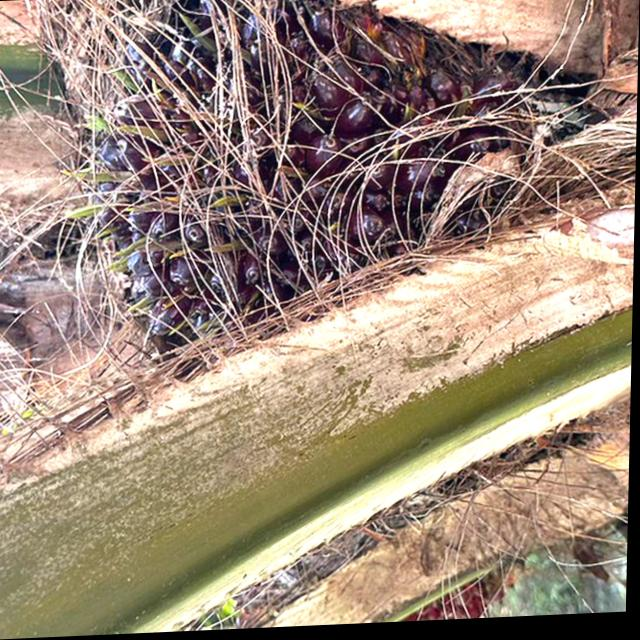almost: (54, 0, 604, 392)
